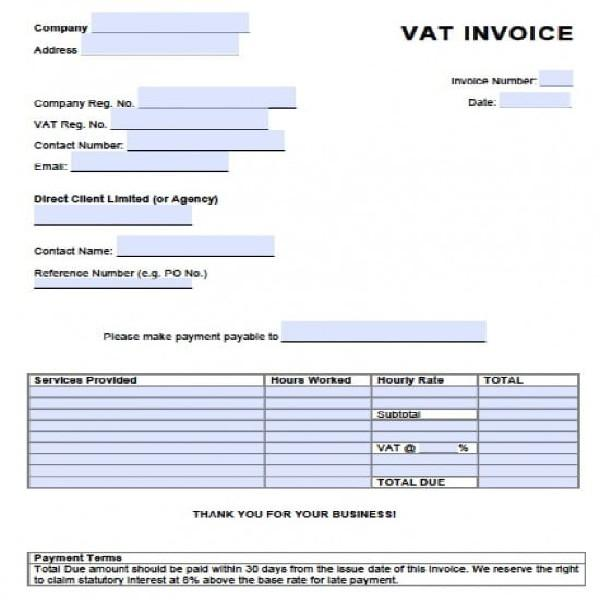test: (28, 374, 578, 487)
